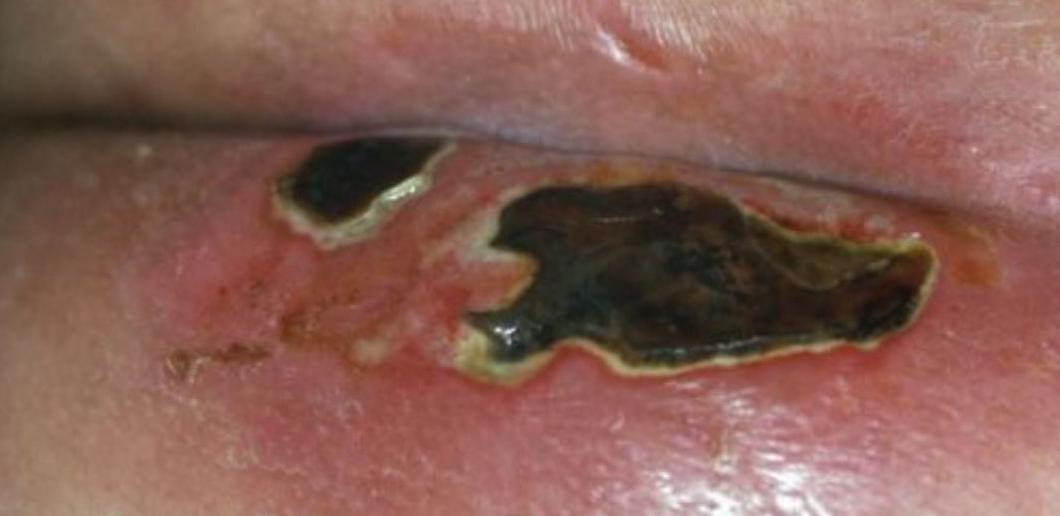Stage4: (377, 131, 960, 396)
